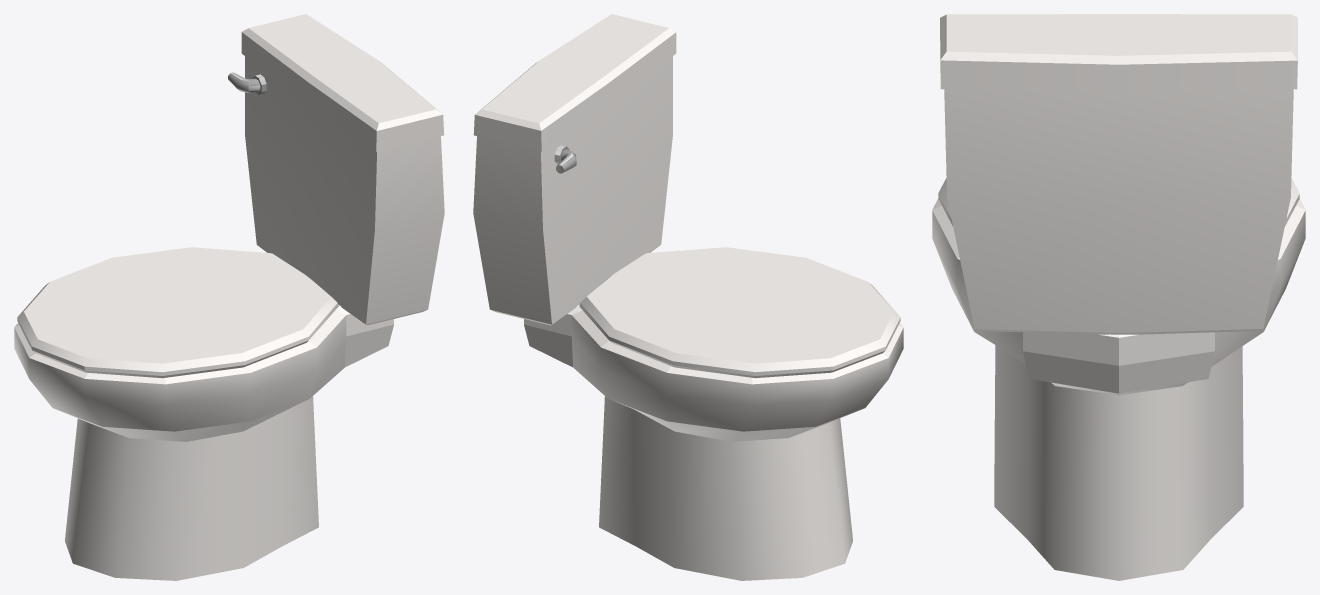
Rendered from Toilet.fbx.
3 renders of one model, left to right at view 1: azimuth 30°, elevation 25°; view 2: azimuth 150°, elevation 25°; view 3: azimuth 270°, elevation 25°, orthographic. The views are drawn at different scales.
Parts seen in each view (by area): view 1: Toilet; view 2: Toilet; view 3: Toilet.
Part boxes in pixels (bbox=[...]): Toilet: bbox=[14, 14, 444, 580]; Toilet: bbox=[473, 14, 903, 580]; Toilet: bbox=[932, 14, 1305, 580].
Size of the model in its own units: 95.12 by 109 by 65.14.
1 material, 1 textured.
